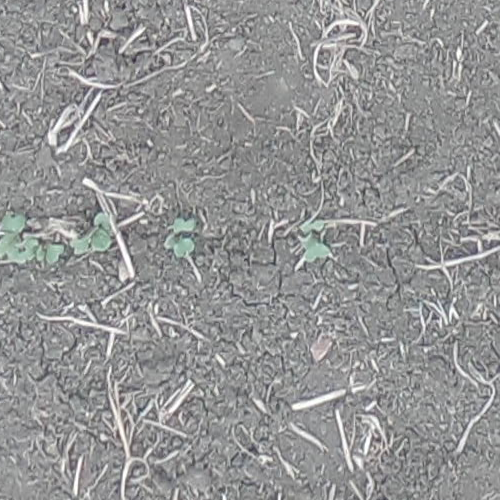isolated: (70, 210, 111, 256), (297, 220, 329, 263), (0, 210, 24, 267), (164, 218, 196, 254), (24, 240, 61, 263)
